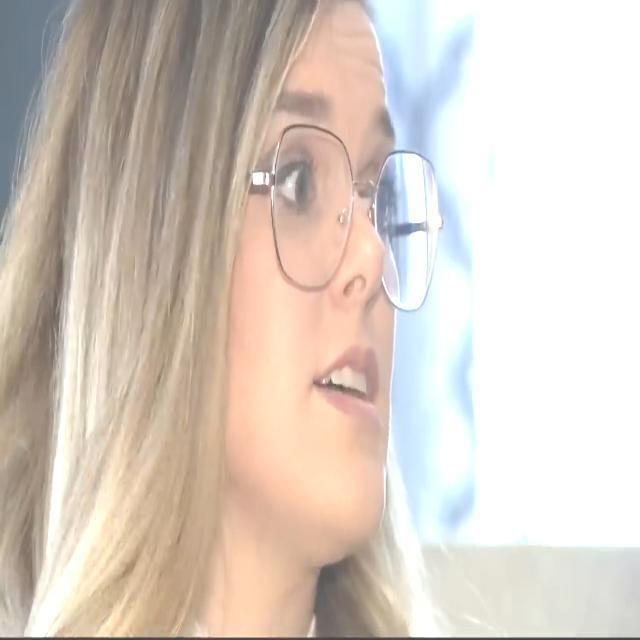non-fight: (144, 0, 576, 577)
